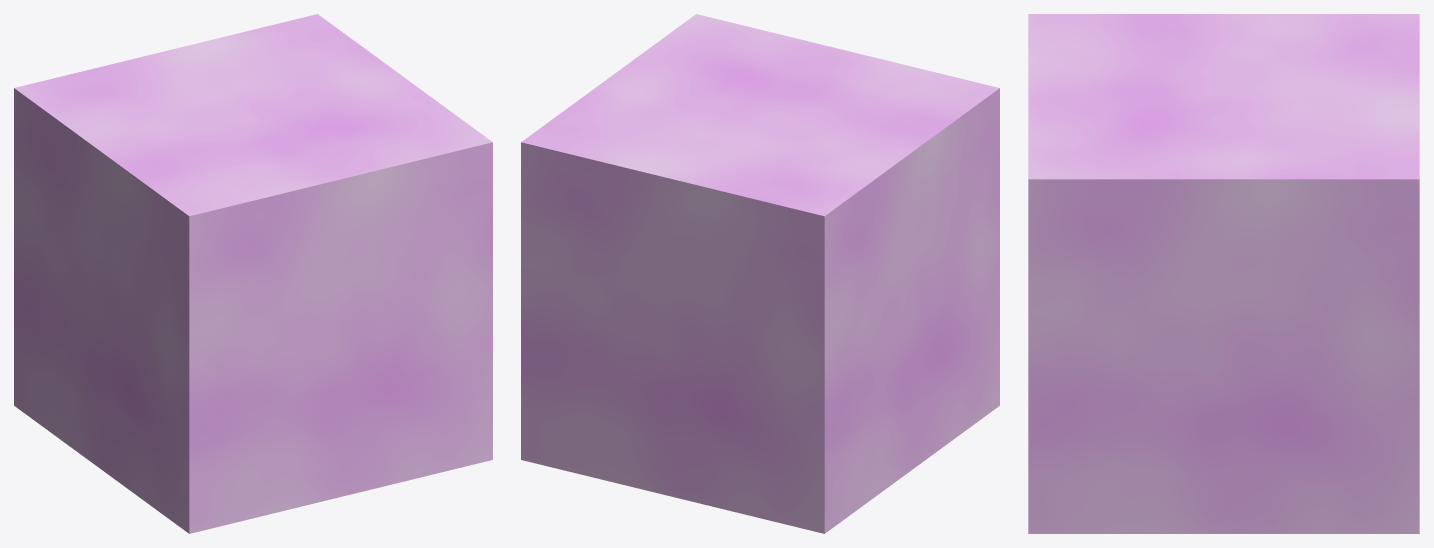
File: AzreHolder.fbx
3 renders of one model, left to right at view 1: azimuth 30°, elevation 25°; view 2: azimuth 150°, elevation 25°; view 3: azimuth 270°, elevation 25°, orthographic. The views are drawn at different scales.
Parts seen in each view (by area): view 1: cube_1; view 2: cube_1; view 3: cube_1.
Part boxes in pixels (left/top/right/bottom): cube_1: left=14, top=14, right=492, bottom=533; cube_1: left=521, top=14, right=999, bottom=533; cube_1: left=1028, top=14, right=1419, bottom=533.
Bounding box in the file's own units: 25 × 25 × 25.
1 material, 1 textured.
